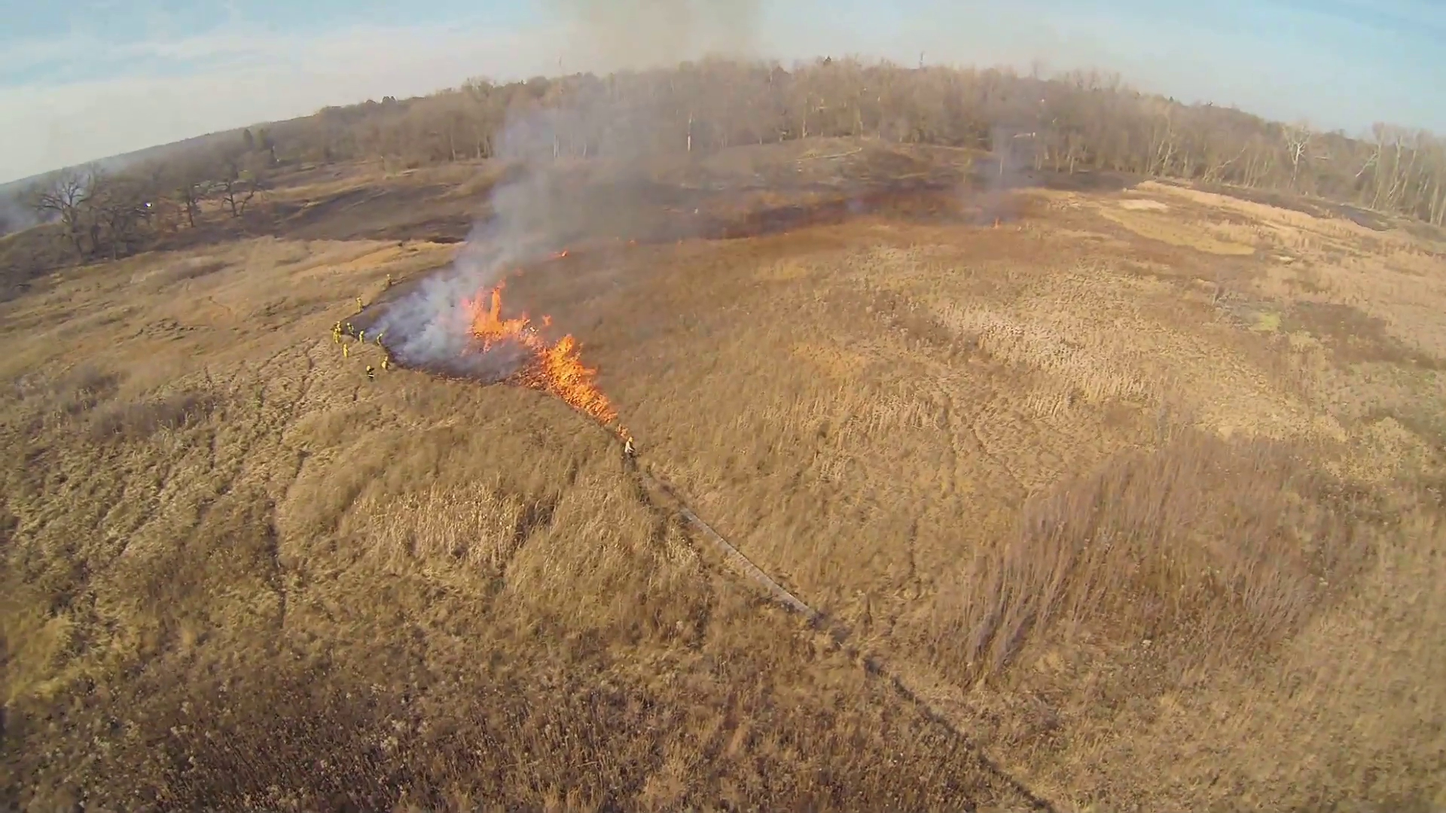forest_fire: (463, 282, 616, 423)
